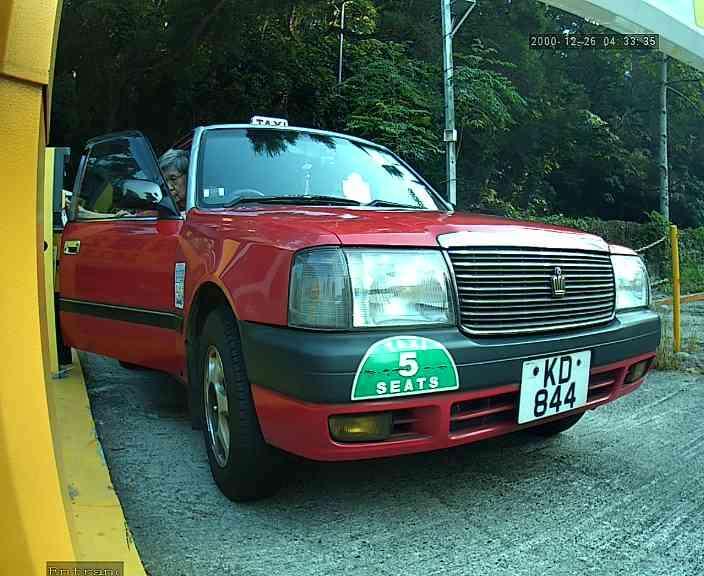taxi: (77, 89, 662, 524)
taxi_mark: (345, 321, 465, 412)
